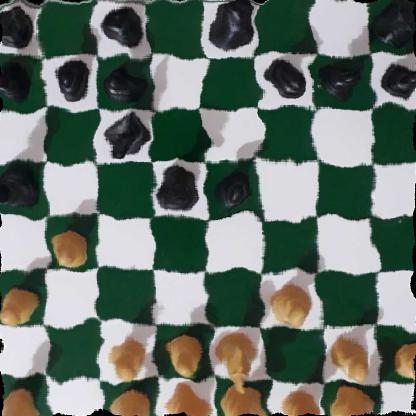black-bishop: (101, 4, 151, 49), (0, 164, 45, 207)
black-king: (207, 0, 256, 53)
black-knight: (105, 112, 146, 157)
black-pawn: (51, 59, 93, 102), (264, 56, 306, 98), (214, 166, 252, 212), (323, 57, 363, 99), (103, 63, 143, 100), (383, 57, 416, 101), (0, 62, 30, 102)
black-queen: (153, 166, 199, 213)
black-rook: (375, 0, 416, 44), (0, 2, 36, 48)
white-bishop: (111, 380, 152, 416), (277, 388, 322, 416)
white-king: (218, 381, 267, 416)
white-knight: (218, 333, 262, 396)
white-pawn: (326, 325, 373, 380), (108, 329, 153, 382), (263, 283, 306, 326), (49, 226, 91, 267), (166, 330, 203, 375), (0, 284, 38, 324), (385, 335, 416, 380)
white-queen: (162, 387, 211, 416)
white-rook: (0, 376, 39, 416), (329, 390, 382, 416)
